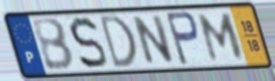B: (29, 17, 77, 73)
D: (97, 12, 140, 71)
M: (197, 12, 246, 64)
N: (131, 13, 176, 67)
P: (163, 10, 201, 68)
S: (67, 15, 110, 72)
